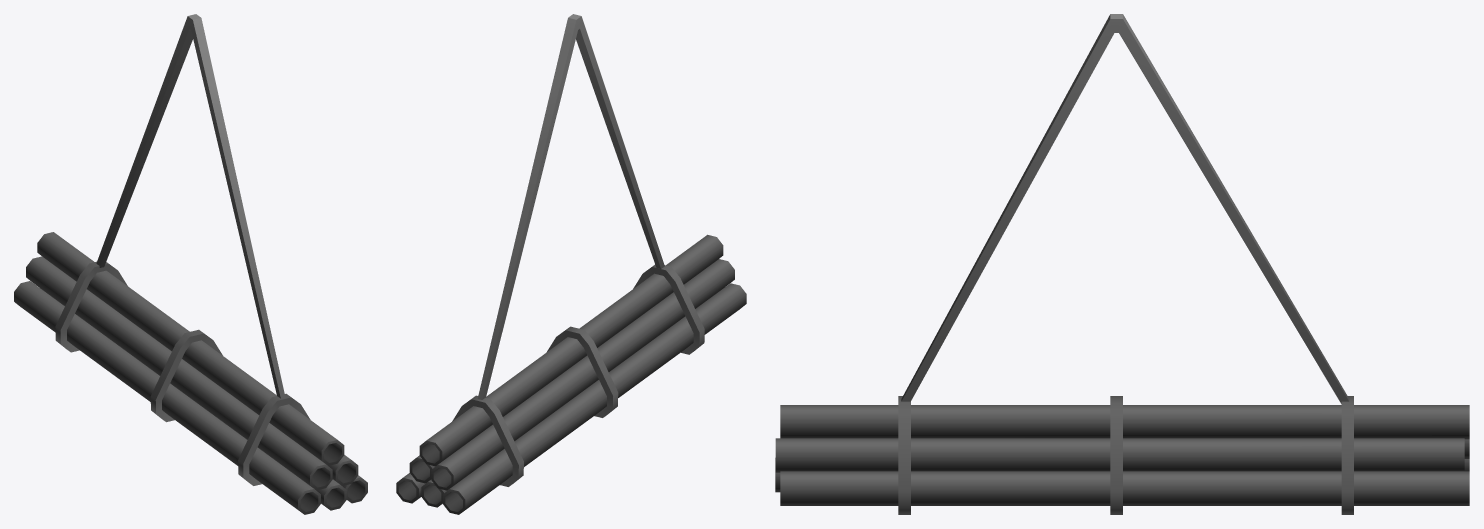
File: Cargo_1_1.fbx
The picture shows the model from 3 angles, left to right: view 1: azimuth 30°, elevation 25°; view 2: azimuth 150°, elevation 25°; view 3: azimuth 270°, elevation 25°; orthographic projection. The views are drawn at different scales.
Parts seen in each view (by area): view 1: Cargo_1_1; view 2: Cargo_1_1; view 3: Cargo_1_1.
Part boxes in pixels (x1,y1,x2,y2): Cargo_1_1: [14, 14, 367, 514]; Cargo_1_1: [396, 14, 746, 514]; Cargo_1_1: [775, 14, 1469, 514].
Bounding box in the file's own units: 92.29 × 424 × 555.
